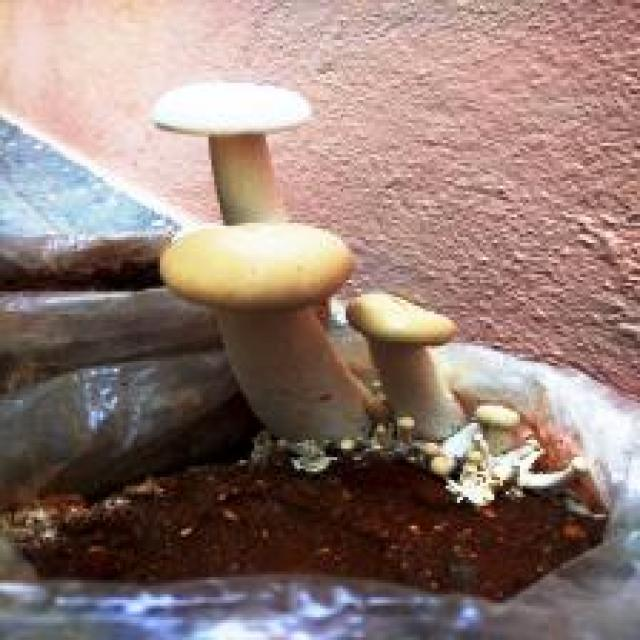field-mushroom: (157, 217, 380, 449), (148, 77, 312, 223)
